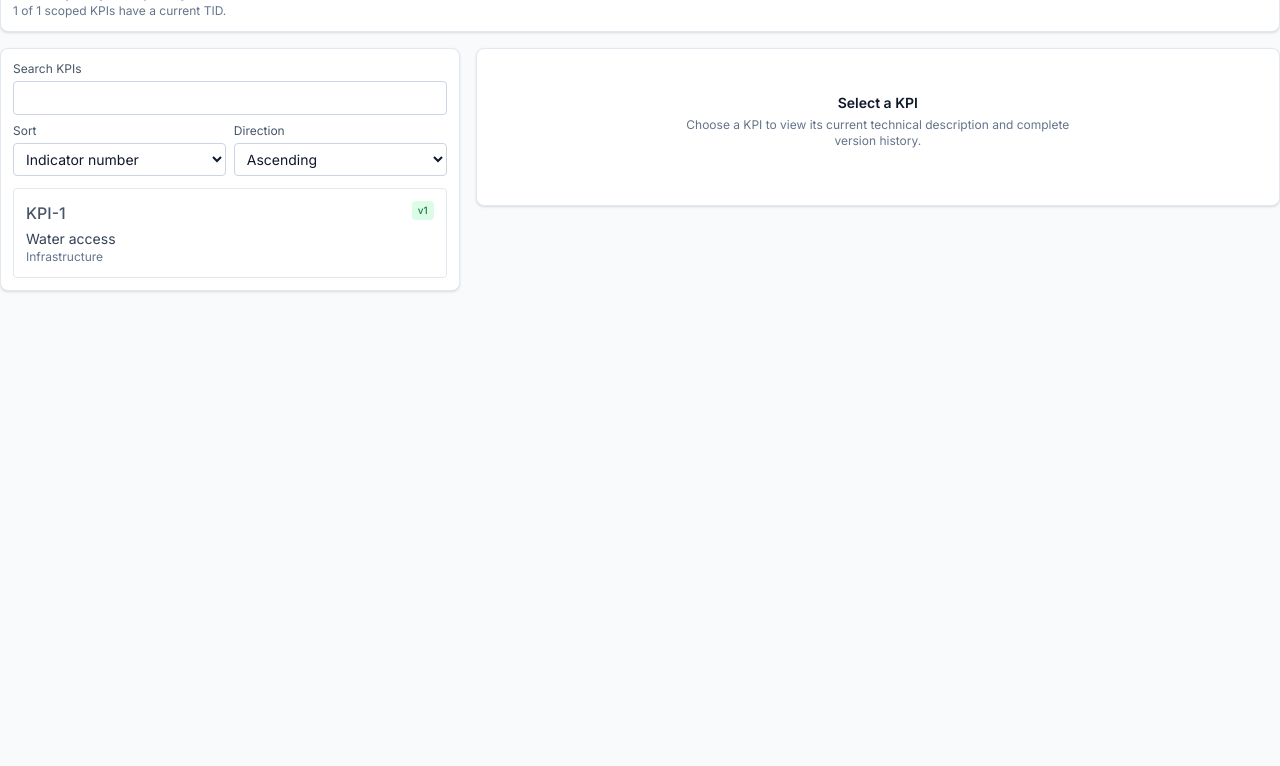
TID workspace › hides protected source-document metadata and the independent rescan action
Click the button "KPI-1 v1 Water access Infrastructure" at (46, 213), box top-left (13, 188), bottom-right (447, 278)
(page scrolled)
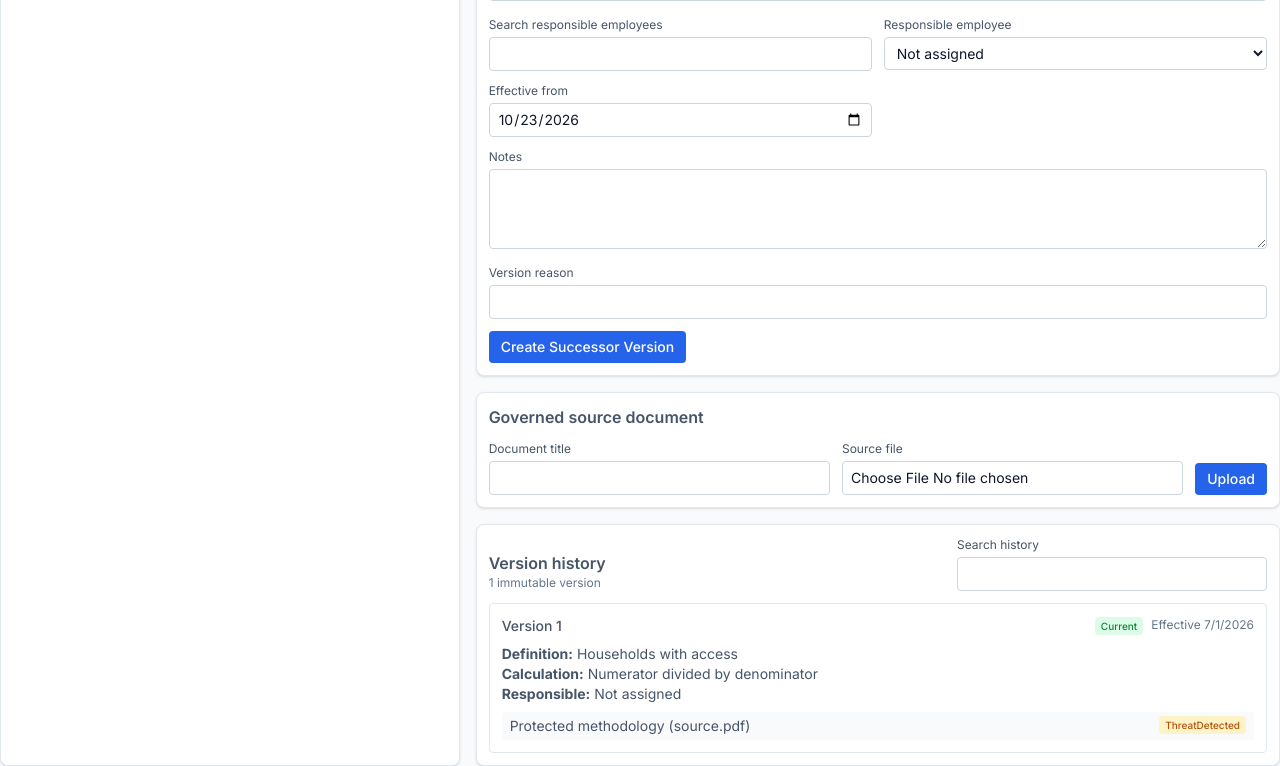
Expected: the text "Protected methodology (source.pdf)" is shown, top-left (510, 717), bottom-right (750, 734)
